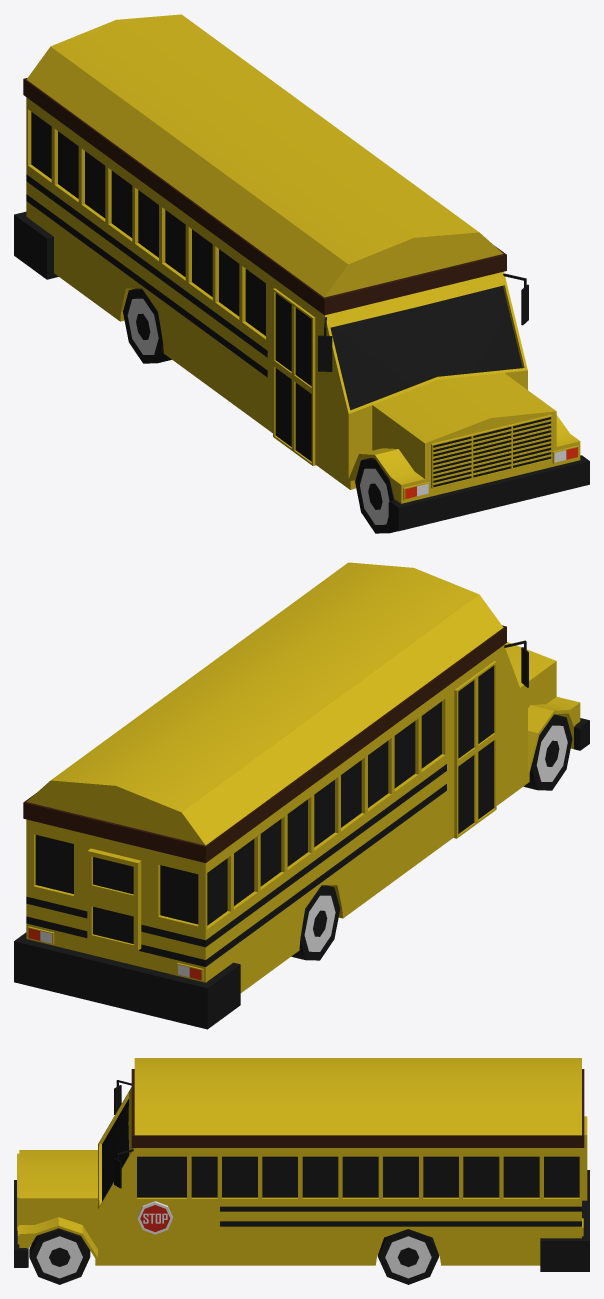
The model's file is Car_SchoolBus.FBX.
The picture shows the model from 3 angles, top to bottom: view 1: azimuth 30°, elevation 25°; view 2: azimuth 150°, elevation 25°; view 3: azimuth 270°, elevation 25°; orthographic projection. The views are drawn at different scales.
Parts seen in each view (by area): view 1: Box005; view 2: Box005; view 3: Box005.
Boxes of the visible parts, x1,y1,x2,y2 form: Box005: (14,14,589,533); Box005: (14,562,589,1029); Box005: (14,1058,589,1284).
Bounding box in the file's own units: 2.59 × 2.78 × 8.14.
